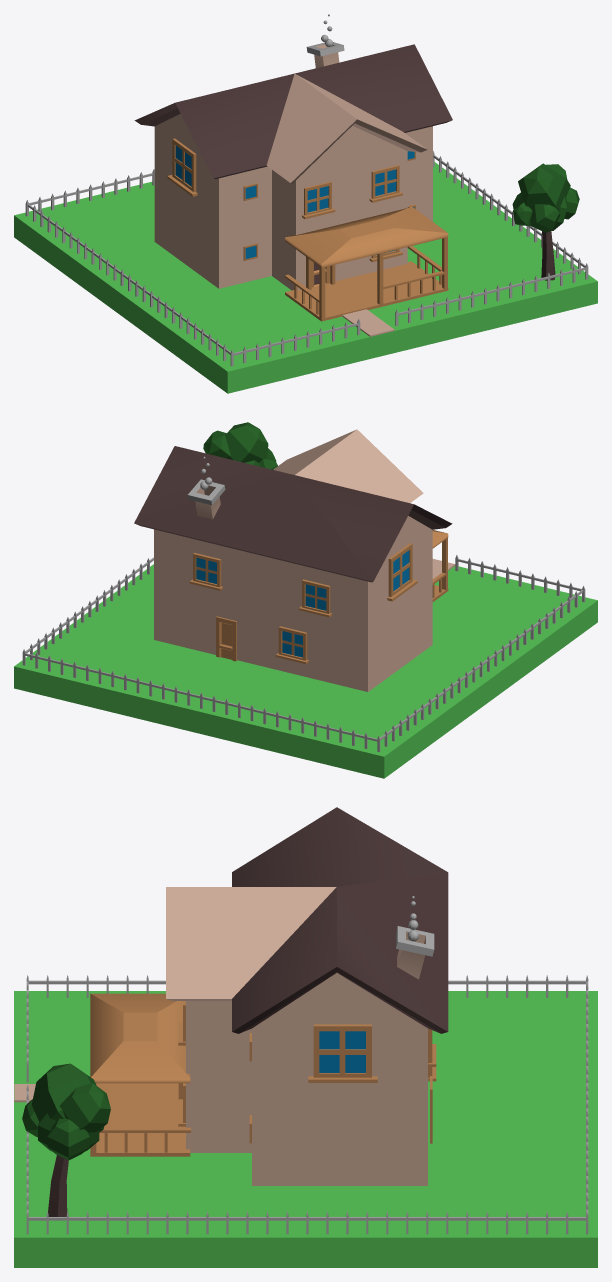
The model's file is House_1.fbx.
3 views of the same model, one above another, from view 1: azimuth 30°, elevation 25°; view 2: azimuth 150°, elevation 25°; view 3: azimuth 270°, elevation 25° (orthographic). The views are drawn at different scales.
Parts seen in each view (by area): view 1: pCube40, pPlane1, pCube4, pCube3, pSphere11, pCube170, pSphere8, pCube168, pCube23, pCylinder1, pPipe7, pCube165; view 2: pCube40, pPlane1, pSphere11, pCube167, pCube23, pCube30, pCube168, pPipe7, pSphere10; view 3: pPlane1, pCube40, pCube4, pCube3, pCube169, pSphere11, pSphere10, pPlane5, pCube23, pSphere7, pPipe7, pCube168 (+1 smaller).
Boxes of the visible parts, box(x1,y1,x2,y2) form: pCube40: box(134, 44, 452, 290); pPlane1: box(14, 162, 597, 393); pCube4: box(285, 206, 448, 267); pCube3: box(285, 261, 448, 321); pSphere11: box(518, 163, 570, 212); pCube170: box(342, 309, 394, 336); pSphere8: box(530, 204, 559, 232); pCube168: box(27, 204, 230, 354); pCube23: box(306, 42, 344, 68); pCylinder1: box(541, 231, 555, 280); pPipe7: box(172, 138, 196, 191); pCube165: box(398, 267, 585, 315); pCube40: box(134, 429, 452, 691); pPlane1: box(14, 564, 597, 778); pSphere11: box(225, 422, 268, 462); pCube167: box(25, 653, 377, 741); pCube23: box(187, 479, 225, 519); pCube30: box(216, 616, 236, 661); pCube168: box(380, 590, 583, 740); pPipe7: box(388, 543, 412, 596); pSphere10: box(203, 430, 230, 458); pPlane1: box(14, 991, 597, 1267); pCube40: box(166, 807, 448, 1185); pCube4: box(90, 993, 190, 1083); pCube3: box(90, 1083, 190, 1156); pCube169: box(28, 1217, 585, 1220); pSphere11: box(31, 1063, 96, 1121); pSphere10: box(60, 1083, 110, 1132); pPlane5: box(319, 1031, 365, 1072); pCube23: box(396, 926, 434, 979); pSphere7: box(47, 1118, 89, 1160); pPipe7: box(313, 1024, 371, 1077); pCube168: box(28, 980, 585, 984).
Bounding box in the file's own units: 29.37 × 16 × 29.23.
